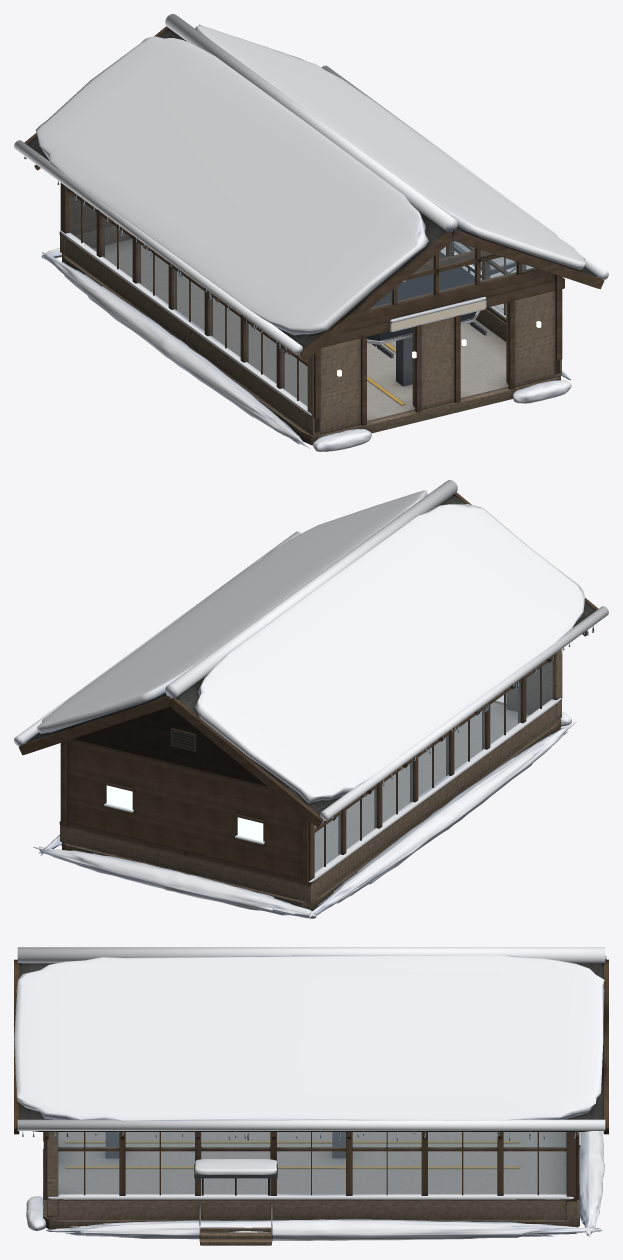
Rendered from gondola_station.glb.
3 views of the same model, one above another, from view 1: azimuth 30°, elevation 25°; view 2: azimuth 150°, elevation 25°; view 3: azimuth 270°, elevation 25° (orthographic). The views are drawn at different scales.
Parts seen in each view (by area): view 1: gondola_station_snow, gondola_station, gondola_station_glass, gondola_station_paint, gondola_station_flat; view 2: gondola_station_snow, gondola_station, gondola_station_glass, gondola_station_lit; view 3: gondola_station_snow, gondola_station, gondola_station_glass.
Boxes of the visible parts, x1,y1,x2,y2 form: gondola_station_snow: (14, 14, 608, 451); gondola_station: (24, 26, 604, 445); gondola_station_glass: (69, 192, 536, 406); gondola_station_paint: (366, 251, 476, 340); gondola_station_flat: (392, 300, 485, 330); gondola_station_snow: (14, 480, 608, 918); gondola_station: (18, 492, 598, 910); gondola_station_glass: (315, 659, 552, 872); gondola_station_lit: (106, 785, 263, 841); gondola_station_snow: (14, 947, 606, 1240); gondola_station: (14, 959, 608, 1245); gondola_station_glass: (58, 1132, 566, 1194).
Bounding box in the file's own units: 20.23 × 13.33 × 31.48.
Materials: 7 (1 with a texture image).
